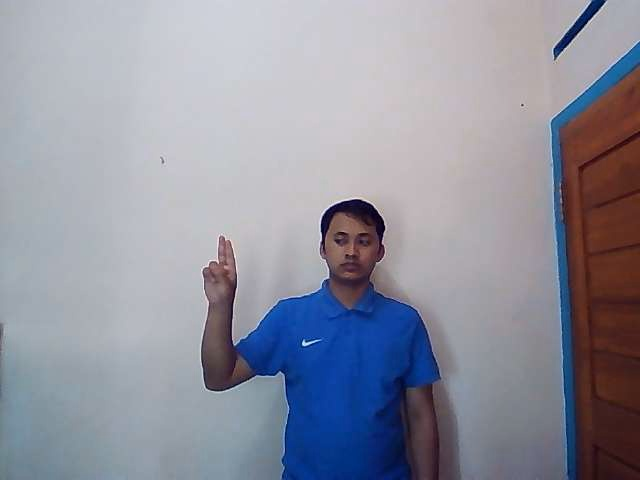U: (201, 233, 239, 304)
